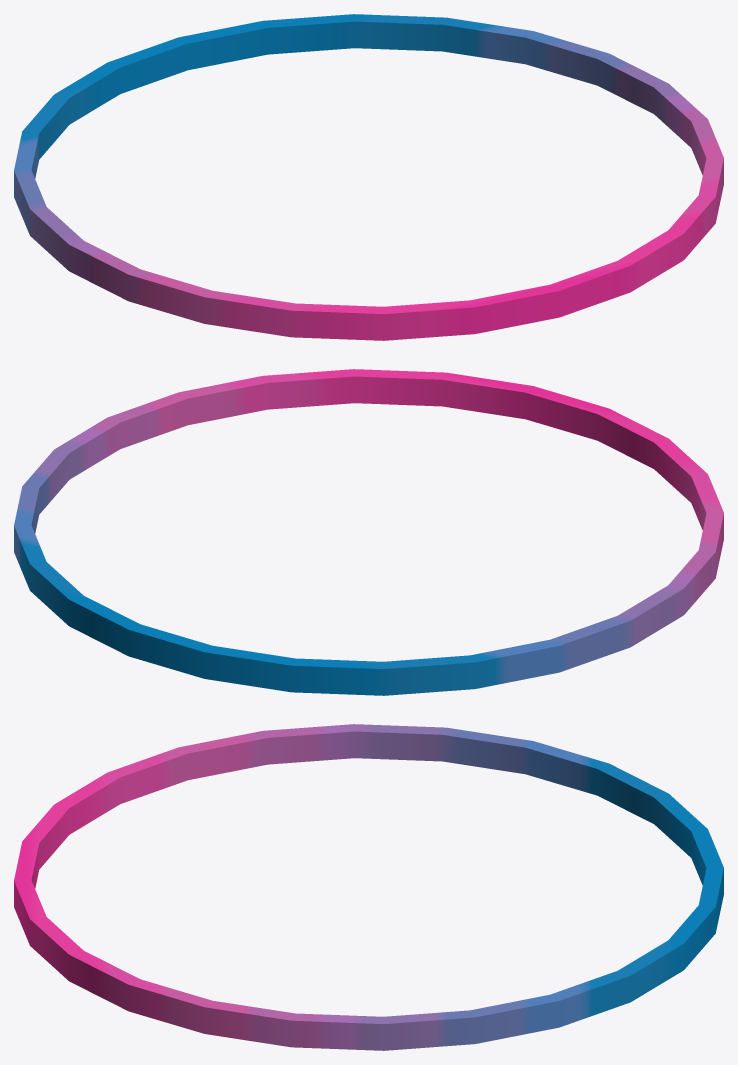
The model's file is Structure_Vapor_Frame_Neon_02_Art.fbx.
3 renders of one model, top to bottom at view 1: azimuth 30°, elevation 25°; view 2: azimuth 150°, elevation 25°; view 3: azimuth 270°, elevation 25°, orthographic.
Visible parts, largest first — view 1: Structure_Vapor_Frame_Neon_02_Art; view 2: Structure_Vapor_Frame_Neon_02_Art; view 3: Structure_Vapor_Frame_Neon_02_Art.
Part boxes in pixels (x1,y1,x2,y2): Structure_Vapor_Frame_Neon_02_Art: (14,14,723,340); Structure_Vapor_Frame_Neon_02_Art: (14,369,723,695); Structure_Vapor_Frame_Neon_02_Art: (14,724,723,1050).
Size of the model in its own units: 9.12 by 0.3783 by 9.12.
